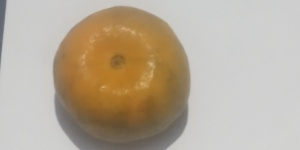BAD: (52, 6, 196, 144)
